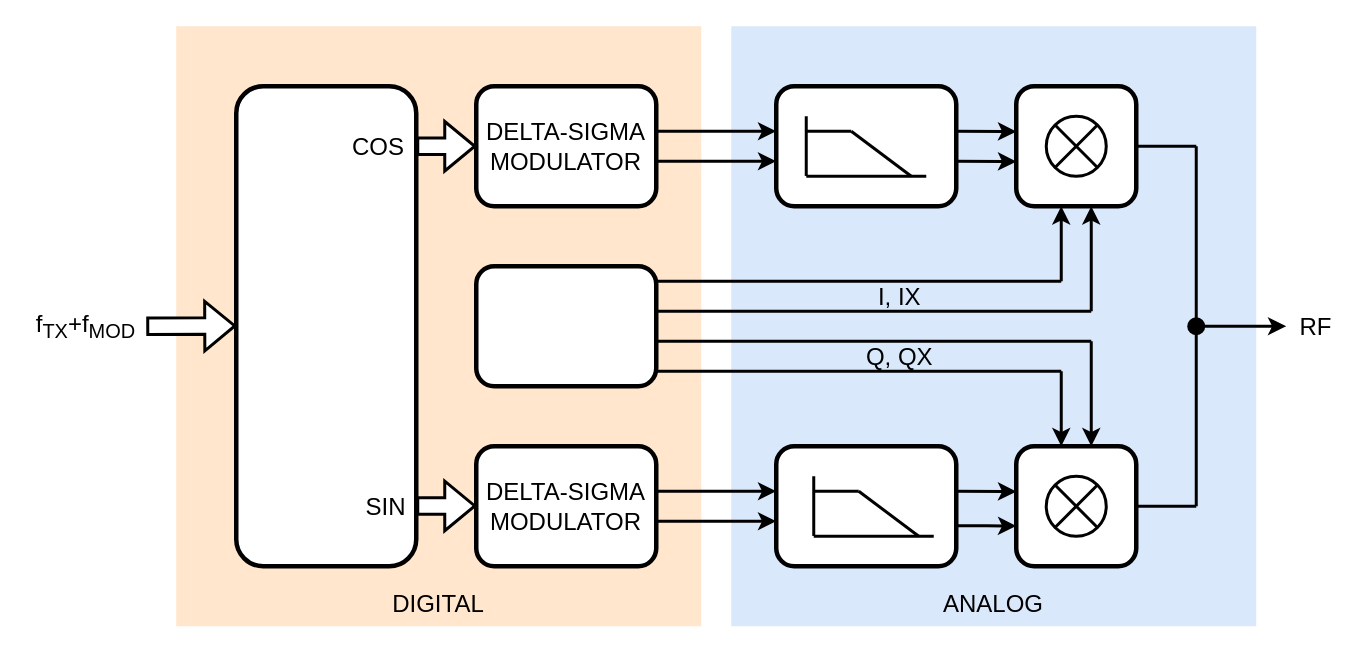
This 1371x651 diagram has some shape labels left out. The shapes that lost their labels are listed below. From the top down, each one's box as (x1, y1, x2, y2) in pixels, then its label:
(233, 83, 418, 568): CORDIC
(473, 263, 658, 388): LO GENERATION
